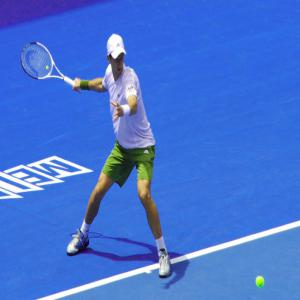TennisBall: (257, 276, 266, 288)
